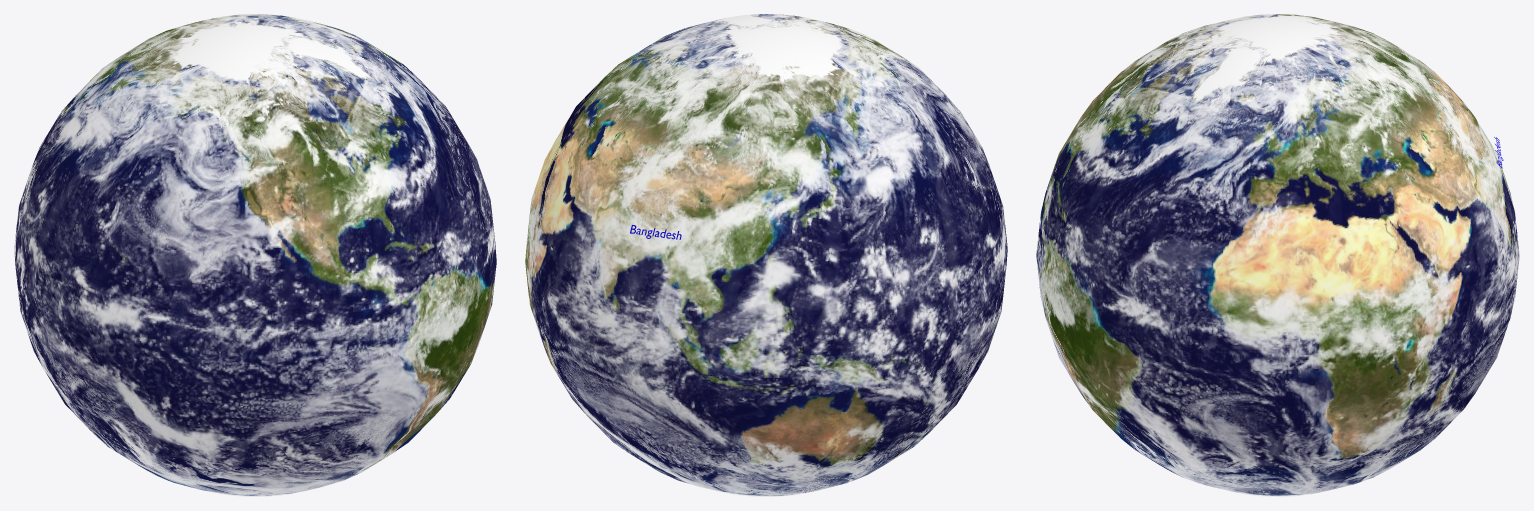
Rendered from earth.glb.
3 renders of one model, left to right at view 1: azimuth 30°, elevation 25°; view 2: azimuth 150°, elevation 25°; view 3: azimuth 270°, elevation 25°, orthographic.
Visible parts, largest first — view 1: Sphere.007; view 2: Sphere.007; view 3: Sphere.007.
Boxes of the visible parts, left/top/right/bottom form: Sphere.007: left=14, top=14, right=496, bottom=496; Sphere.007: left=525, top=14, right=1007, bottom=496; Sphere.007: left=1036, top=14, right=1519, bottom=496.
Bounding box in the file's own units: 8 × 8 × 8.
2 materials, 1 textured.
